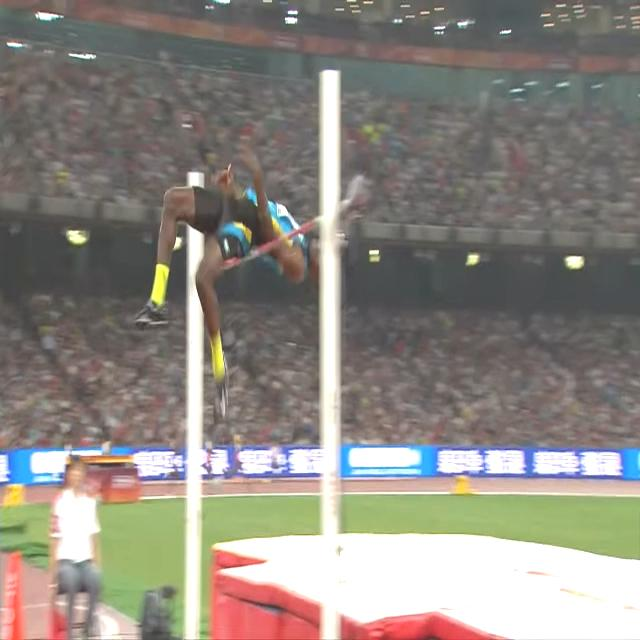jump: (133, 142, 319, 425)
